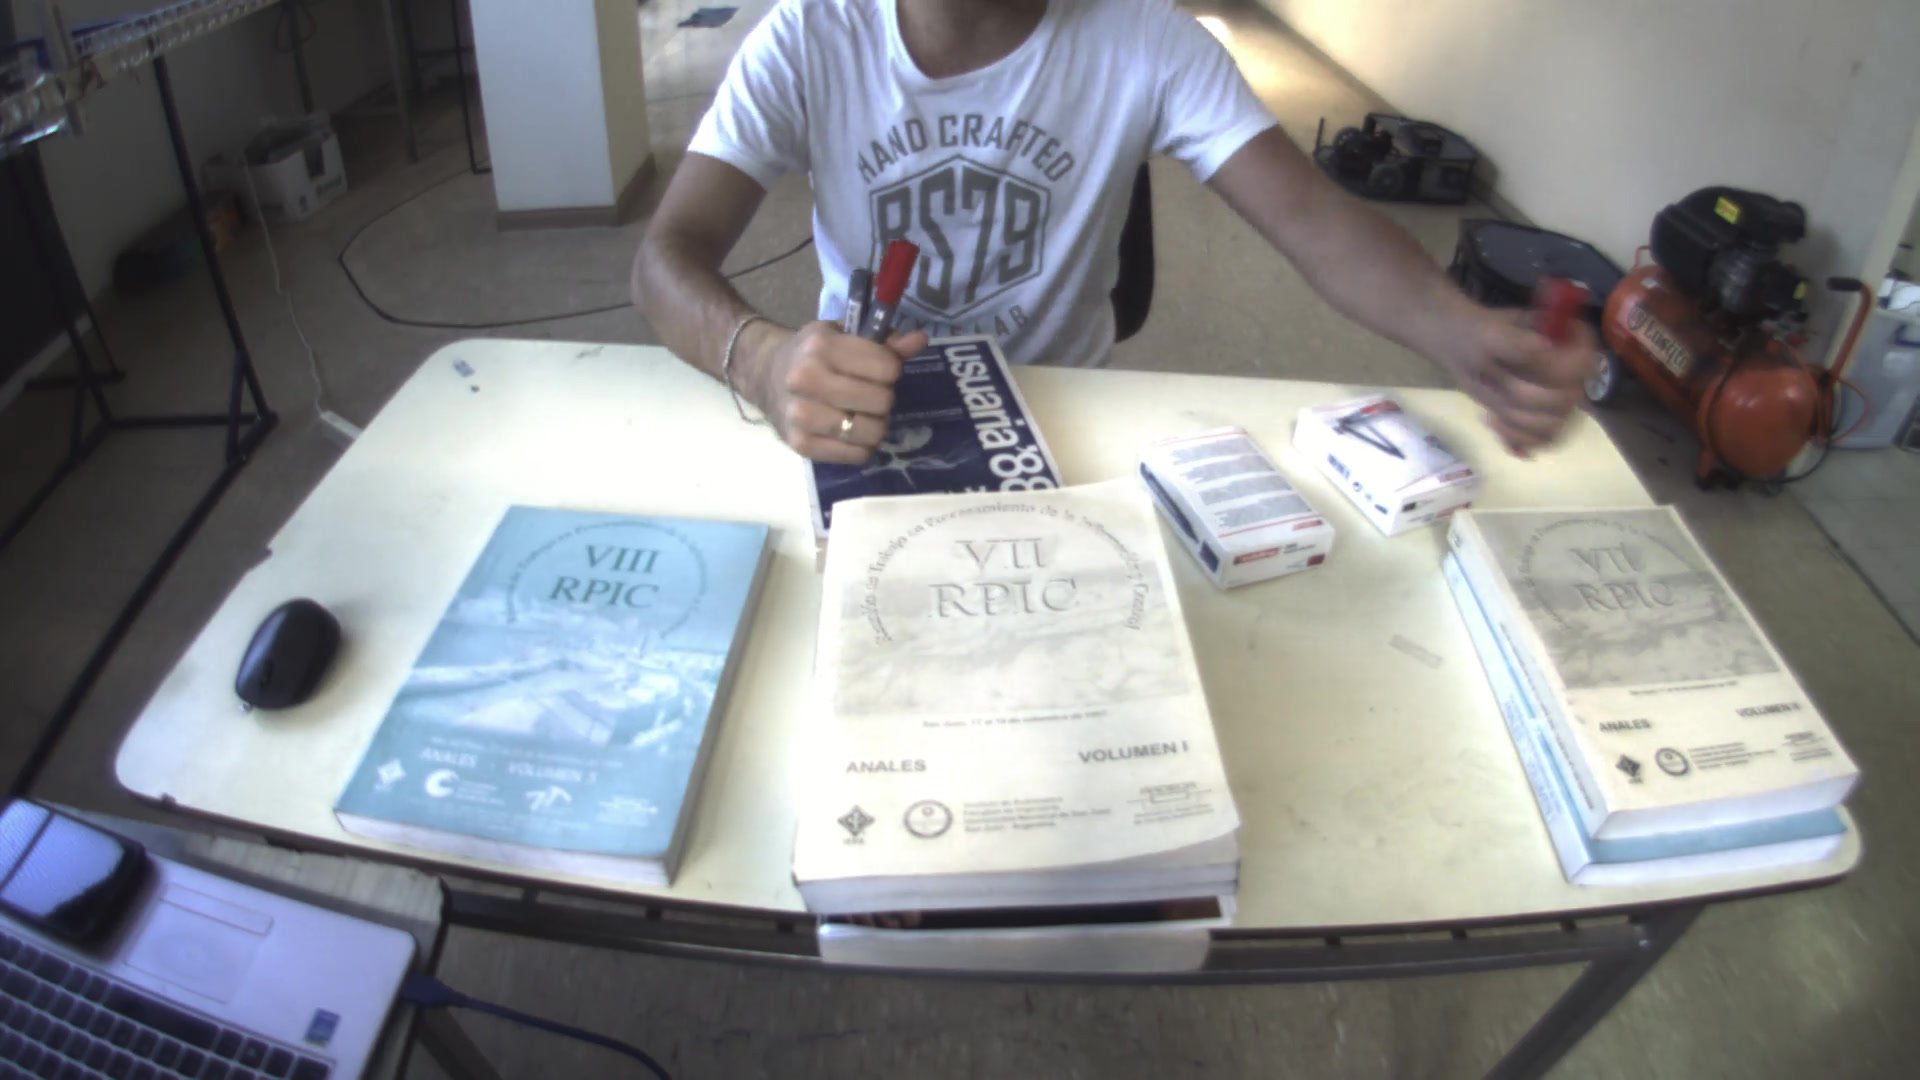hand: (719, 301, 934, 462), (1447, 284, 1598, 464)
